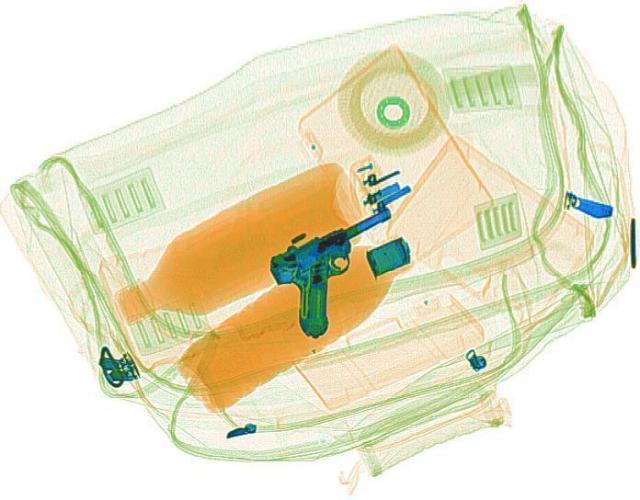Gun: (245, 202, 449, 338)
